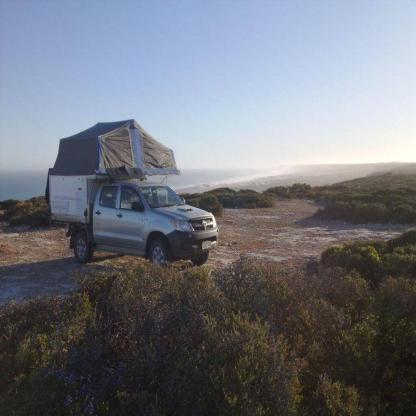light_vehicle: (49, 174, 220, 268)
